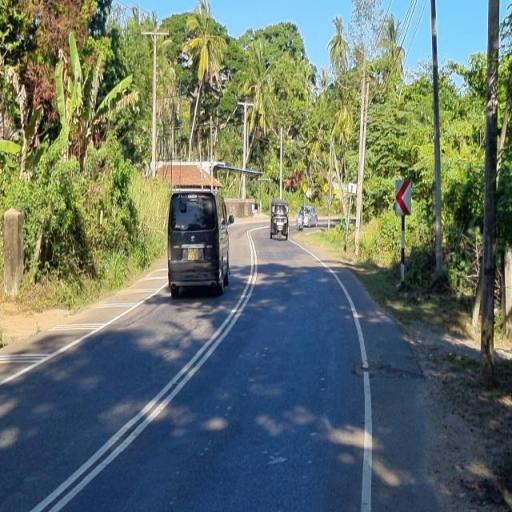double_white_line: (29, 227, 259, 512)
